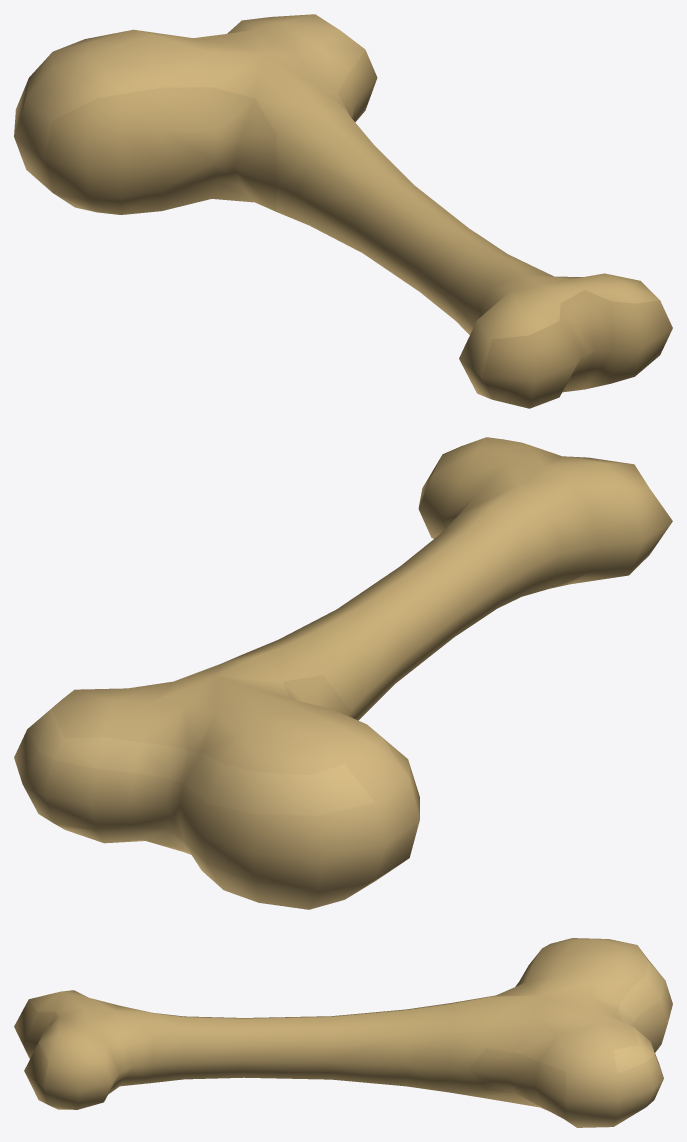
File: Melee_Bone.fbx
3 views of the same model, one above another, from view 1: azimuth 30°, elevation 25°; view 2: azimuth 150°, elevation 25°; view 3: azimuth 270°, elevation 25° (orthographic). The views are drawn at different scales.
Parts seen in each view (by area): view 1: Melee_Bone; view 2: Melee_Bone; view 3: Melee_Bone.
Part boxes in pixels (left/top/right/bottom): Melee_Bone: left=14, top=14, right=672, bottom=408; Melee_Bone: left=14, top=437, right=672, bottom=909; Melee_Bone: left=14, top=938, right=672, bottom=1127.
Bounding box in the file's own units: 0.4793 × 0.2157 × 1.04.
